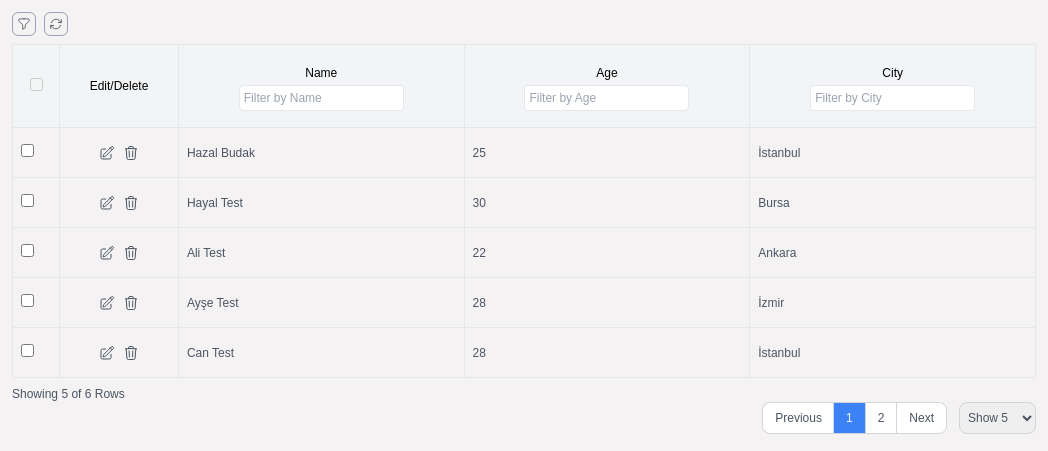
Scenario: DataTable Component Tests › handles pagination correctly
The width and height of the screenshot is (1048, 451).
Check: the text "Hazal Budak" is shown, box left=178, top=128, right=464, bottom=178
Check: the text "Hayal Test" is shown, box left=178, top=178, right=464, bottom=228
Click the link "2".
click(881, 418)  # box left=865, top=402, right=897, bottom=434
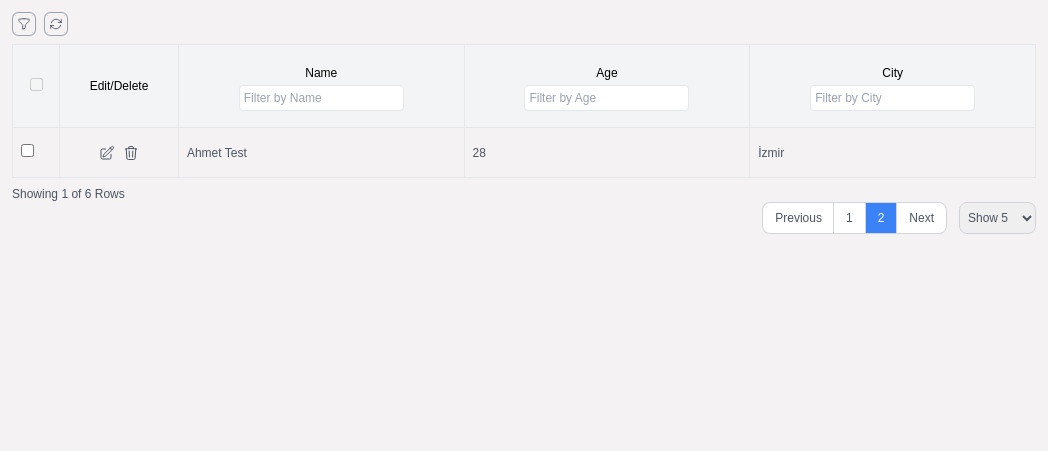
Check: the text "Ahmet Test" is shown, box left=178, top=128, right=464, bottom=178
Check: the text "Hazal Budak" is gone
Check: the text "Hayal Test" is gone
